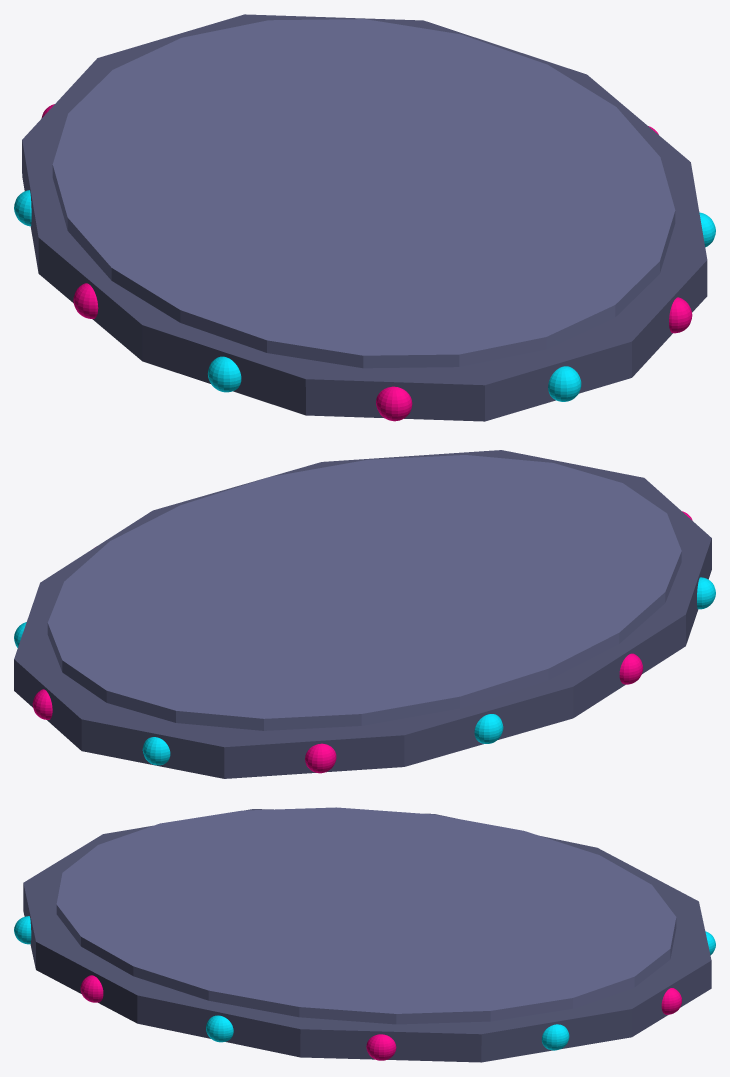
Rendered from stage.glb.
3 renders of one model, top to bottom at view 1: azimuth 30°, elevation 25°; view 2: azimuth 150°, elevation 25°; view 3: azimuth 270°, elevation 25°, orthographic. The views are drawn at different scales.
Parts seen in each view (by area): view 1: Cylinder.001, Cylinder, Sphere.024, Sphere.023, Sphere.025, Sphere.022, Sphere.020; view 2: Cylinder.001, Cylinder, Sphere.017, Sphere.021, Sphere.012, Sphere.022; view 3: Cylinder.001, Cylinder, Sphere.018, Sphere.019, Sphere.011, Sphere.020, Sphere.010.
Boxes of the visible parts, bbox=[...] form: Cylinder.001: bbox=[52, 19, 675, 368]; Cylinder: bbox=[22, 14, 707, 421]; Sphere.024: bbox=[376, 386, 412, 421]; Sphere.023: bbox=[207, 356, 241, 392]; Sphere.025: bbox=[548, 366, 581, 401]; Sphere.022: bbox=[73, 283, 98, 318]; Sphere.020: bbox=[669, 297, 692, 333]; Cylinder.001: bbox=[47, 455, 681, 730]; Cylinder: bbox=[14, 450, 711, 778]; Sphere.017: bbox=[305, 743, 336, 773]; Sphere.021: bbox=[474, 714, 503, 743]; Sphere.012: bbox=[142, 737, 170, 765]; Sphere.022: bbox=[619, 653, 643, 684]; Cylinder.001: bbox=[56, 807, 676, 1024]; Cylinder: bbox=[23, 809, 711, 1062]; Sphere.018: bbox=[366, 1034, 396, 1060]; Sphere.019: bbox=[206, 1015, 233, 1042]; Sphere.011: bbox=[541, 1024, 569, 1050]; Sphere.020: bbox=[80, 975, 103, 1002]; Sphere.010: bbox=[661, 988, 681, 1014].
Size of the model in its own units: 14.88 by 1.18 by 19.18.
